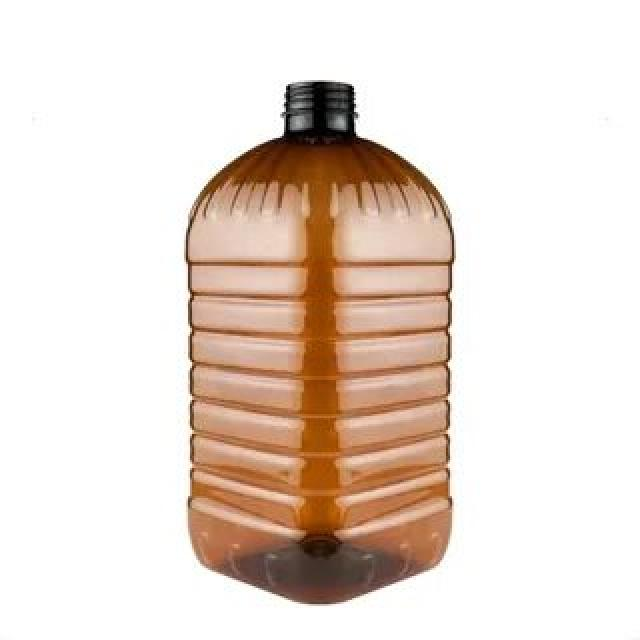brown: (188, 81, 454, 606)
